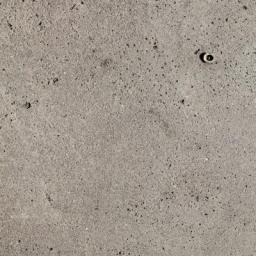FOD: (196, 47, 219, 69)
